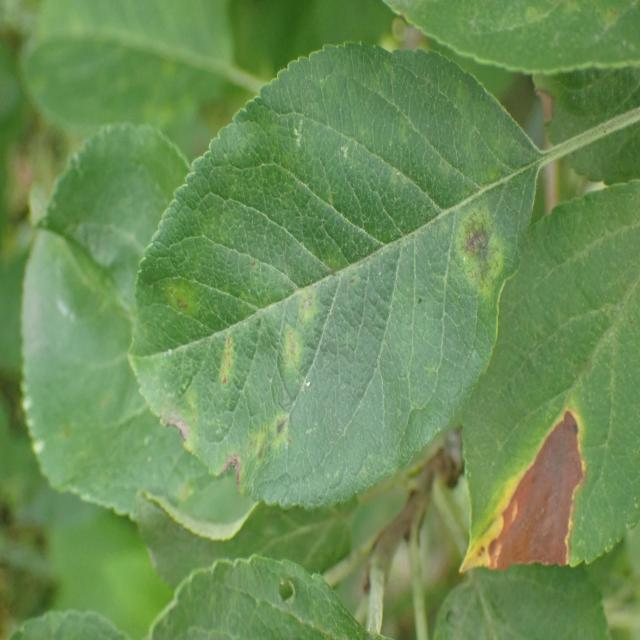scab: (131, 99, 536, 487)
